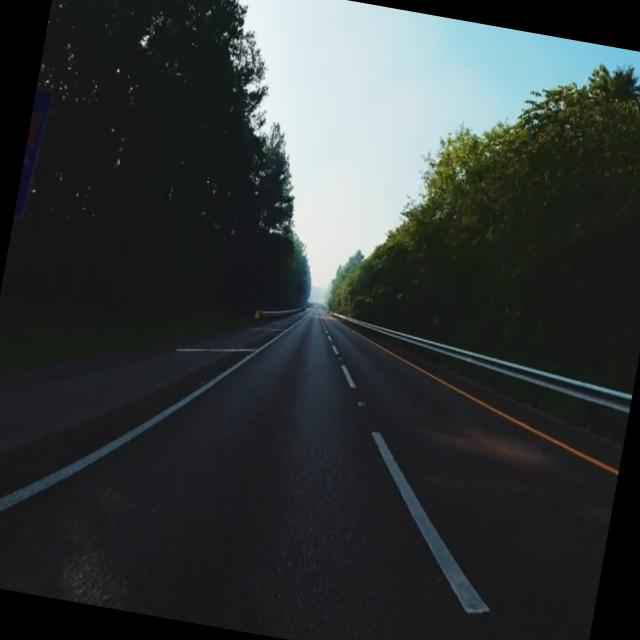asphalt: (0, 314, 617, 640)
